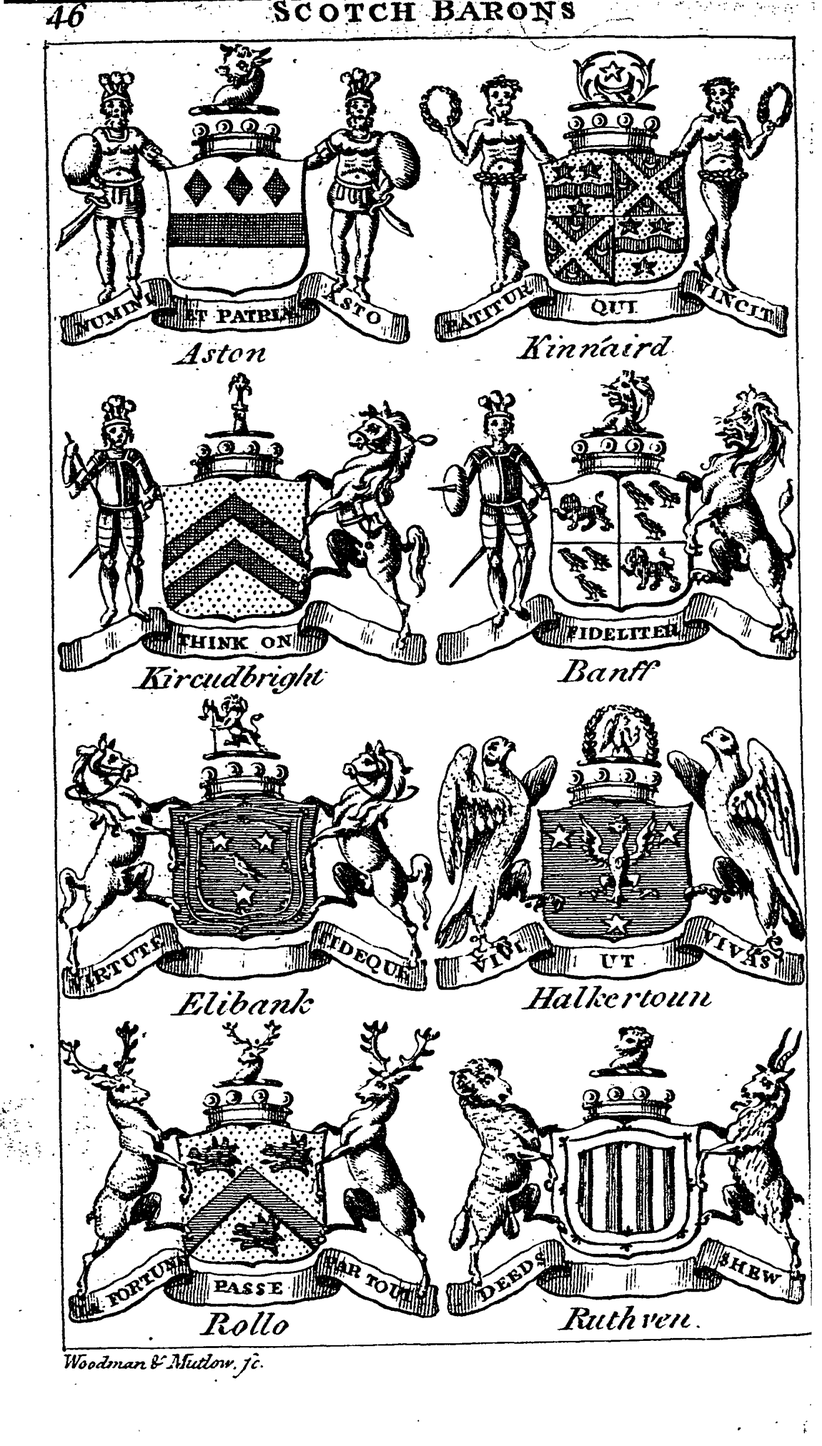coat_of_arms: (427, 693, 808, 1015), (58, 370, 433, 696), (419, 44, 794, 369), (60, 1024, 443, 1342), (58, 699, 432, 1024), (436, 371, 797, 695), (58, 50, 422, 367), (444, 1025, 808, 1334)
